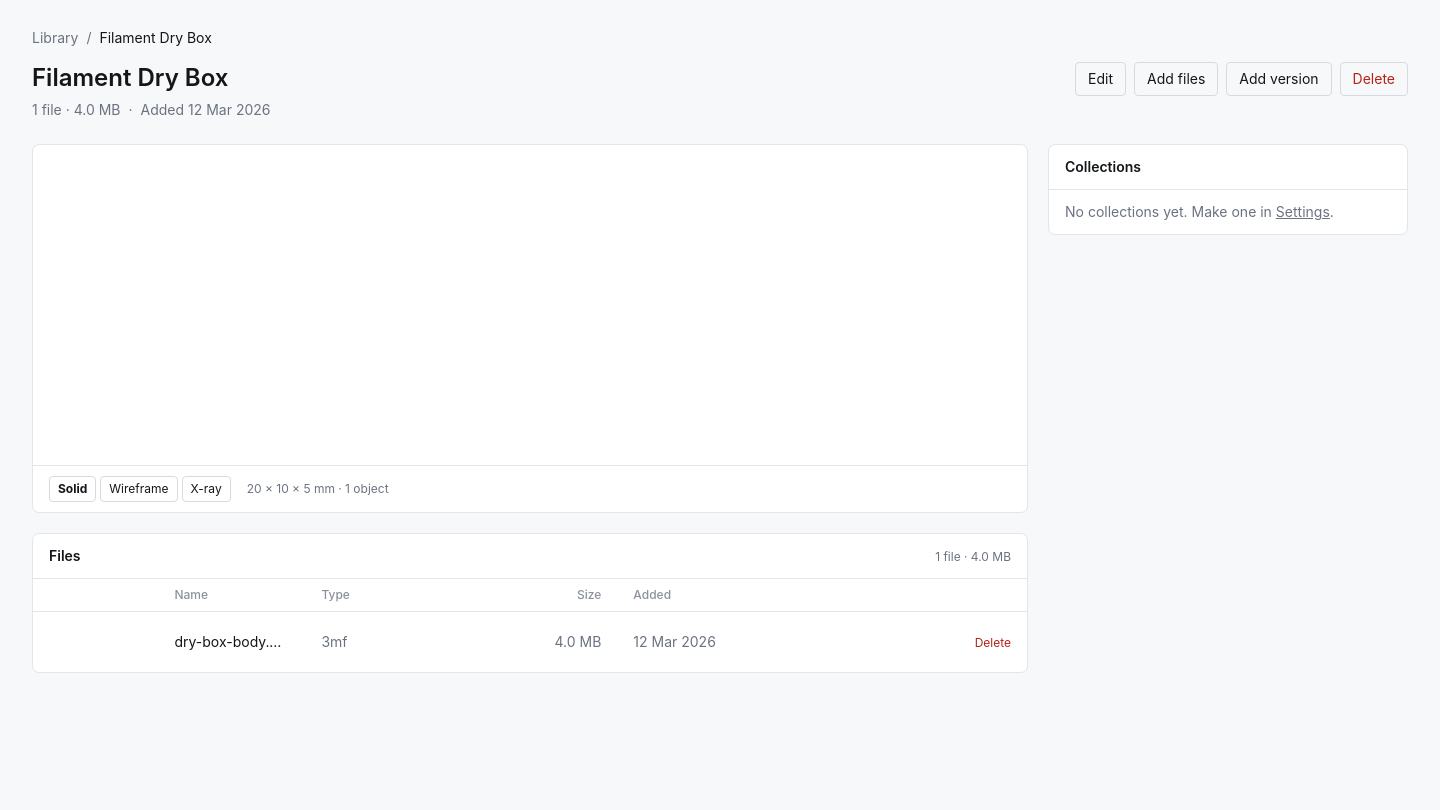
Test case: model detail page › closes the dialog when a delete succeeds but the re-read fails
Expected: the link "dry-box-body.3mf" is shown, [174, 632, 289, 652]
What coordinates should you click on to do the following:
click the button with aria-label "Delete dry-box-body.3mf"
I would click on:
 (993, 643)
Its box is [975, 635, 1011, 651].
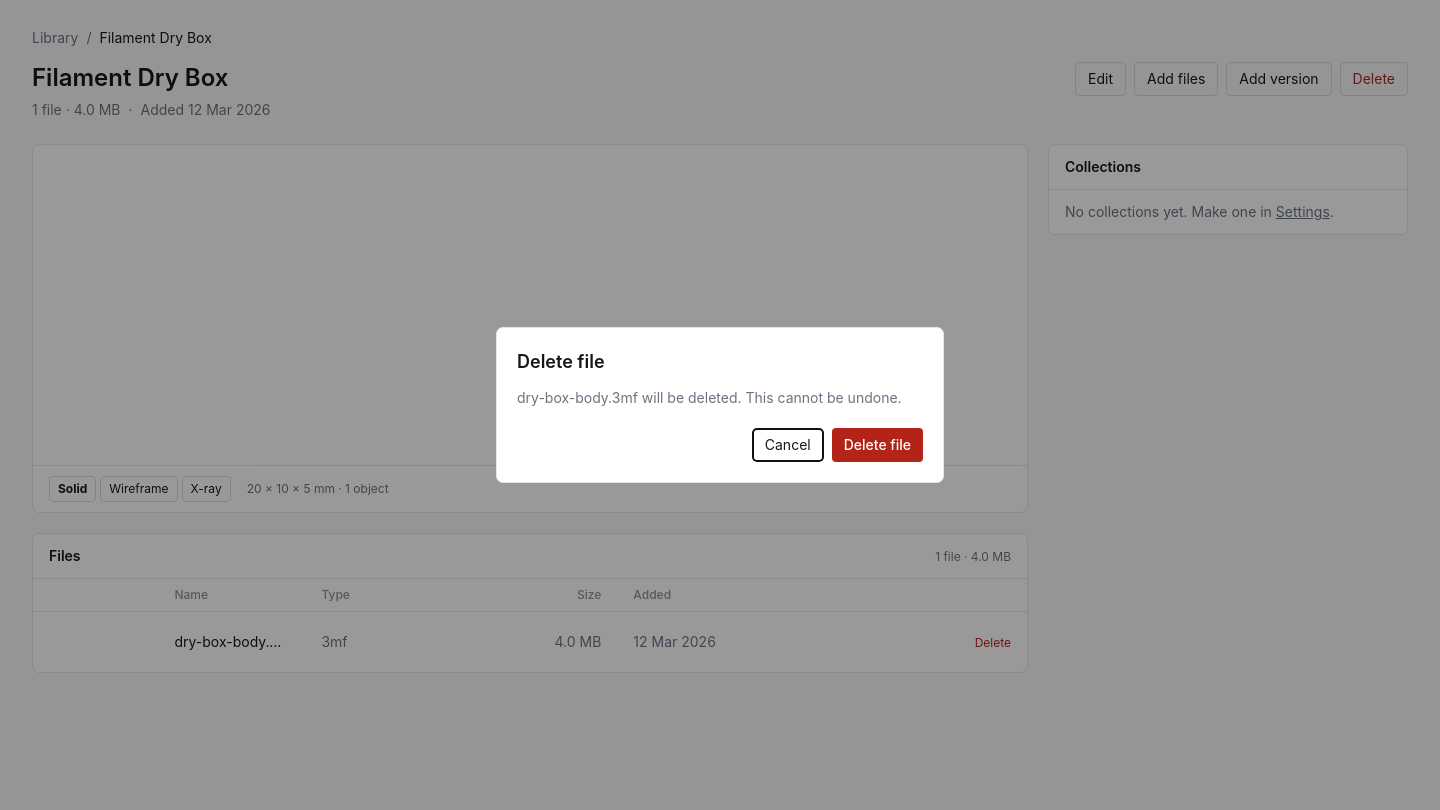
What coordinates should you click on to do the following:
click the button "Delete file"
I would click on:
 (877, 445)
Its box is [832, 428, 923, 462].
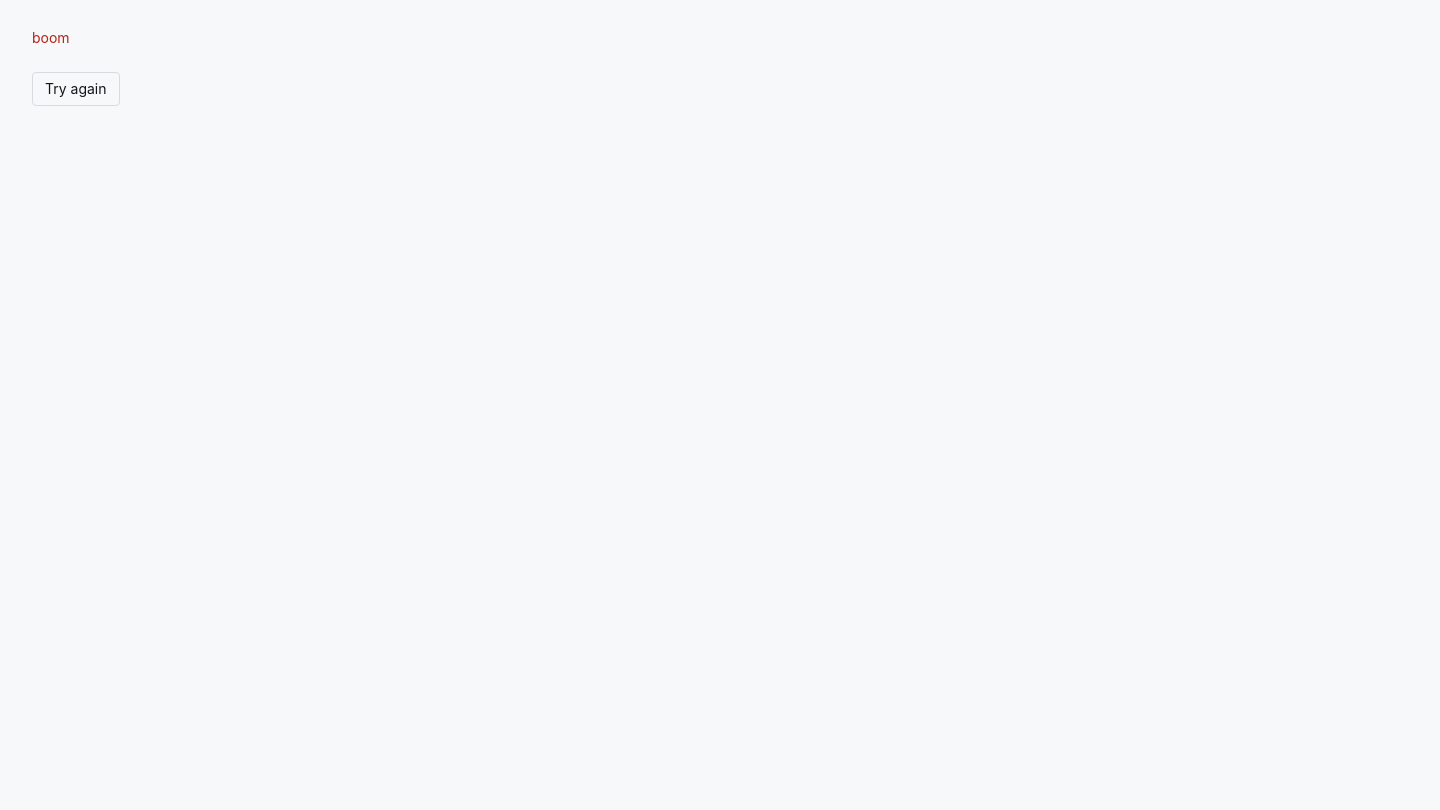
Expected: the dialog is gone
Expected: the button "Try again" is shown, [32, 72, 120, 106]
